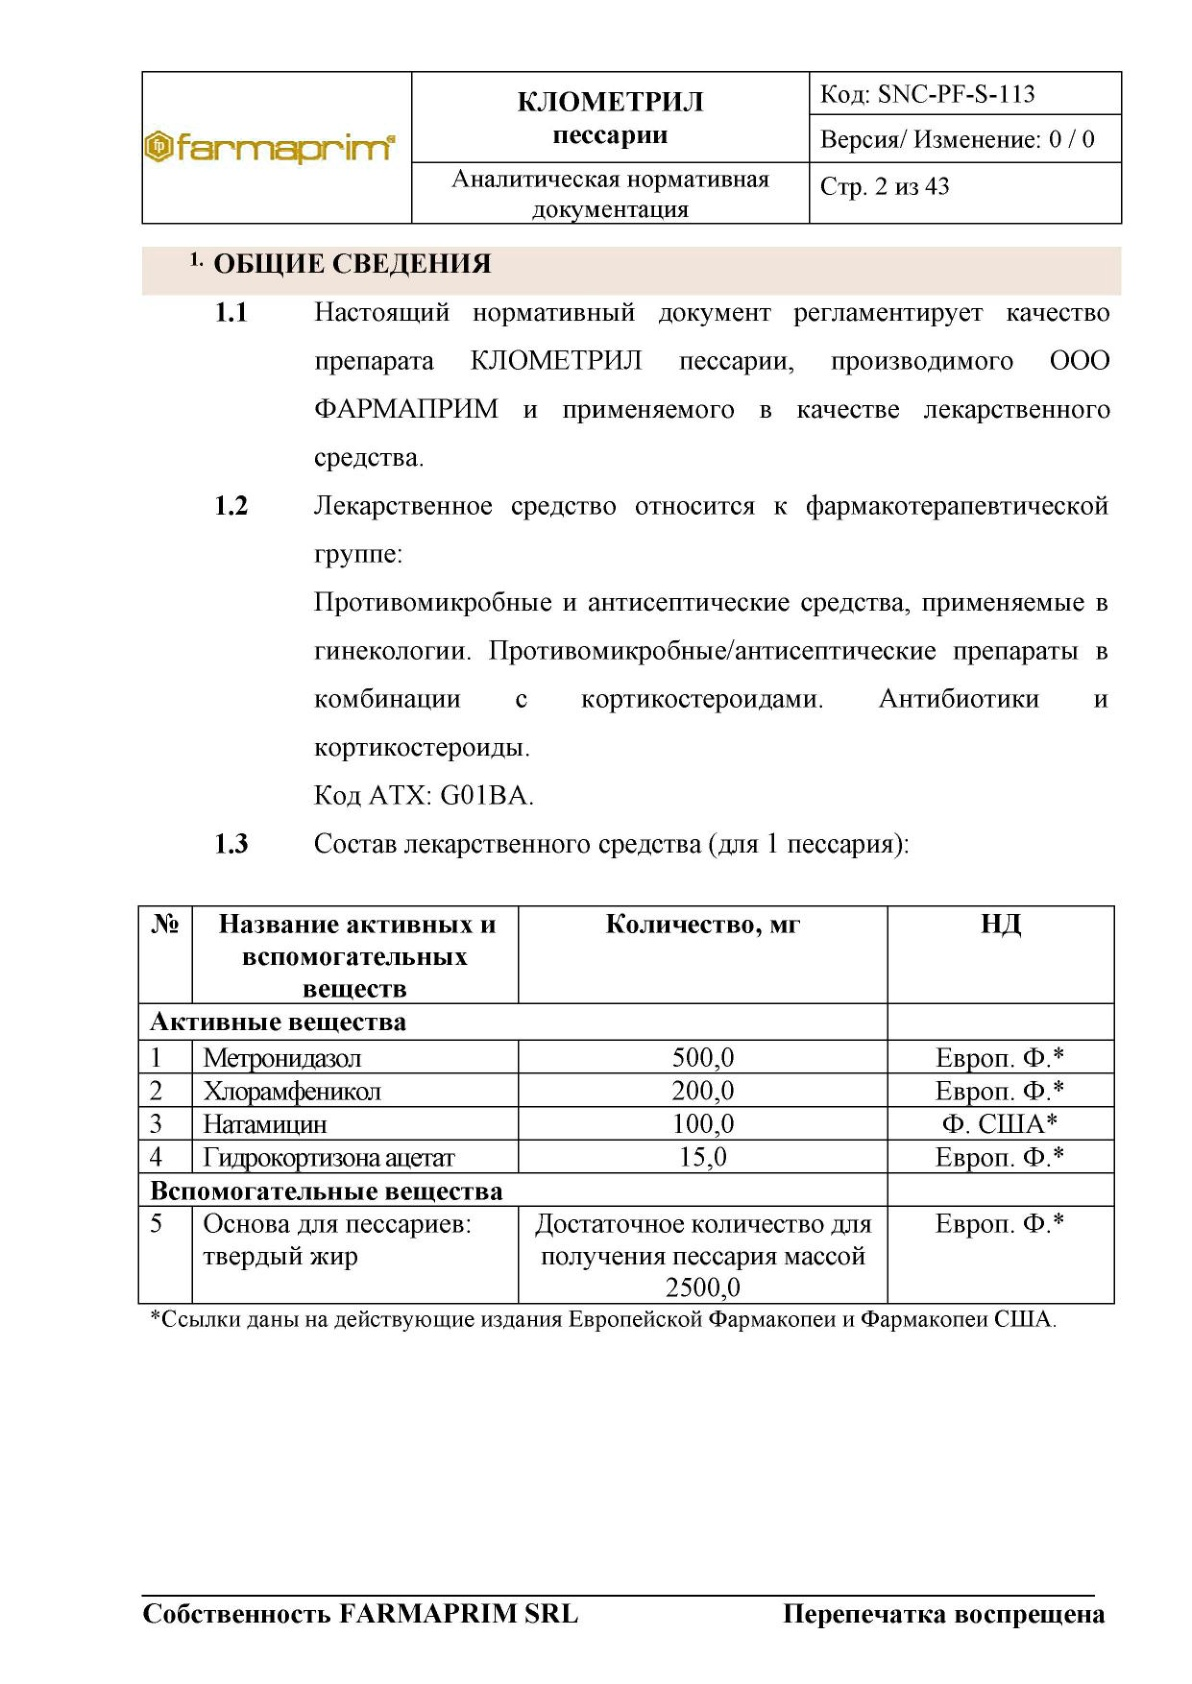merged_cells: (137, 905, 1117, 1305), (141, 70, 1124, 224)
